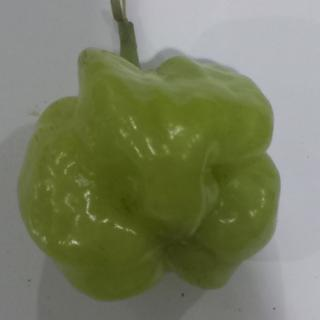Grade-B: (11, 40, 287, 304)
